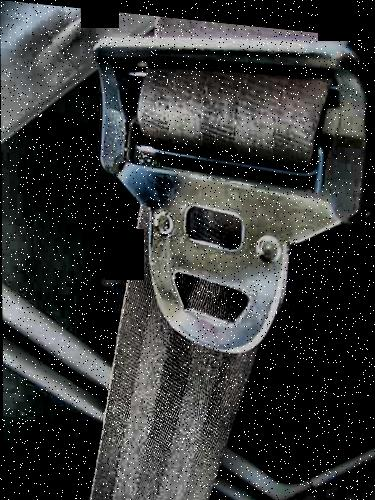seatbelt: (52, 8, 304, 500)
